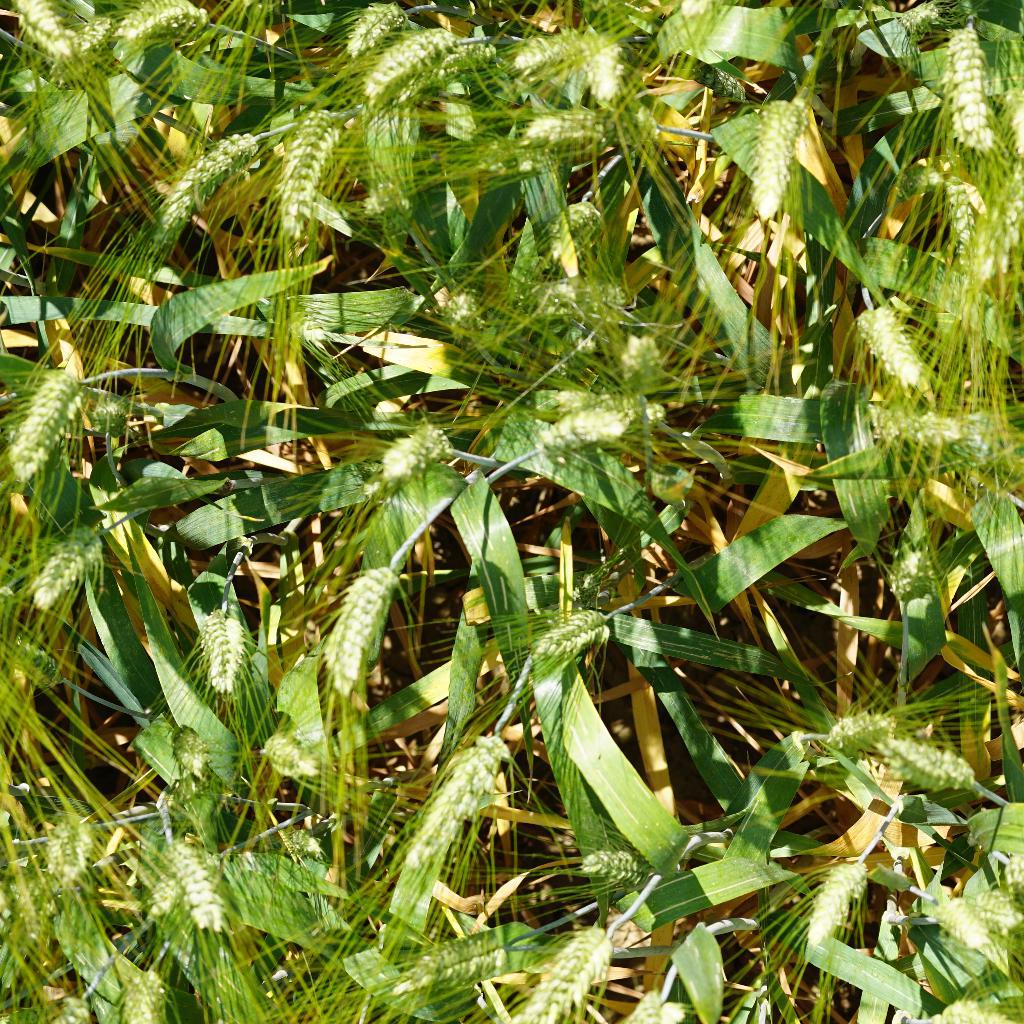0-0: (397, 709, 514, 873), (144, 123, 262, 238), (268, 101, 357, 246), (512, 908, 623, 1024), (313, 555, 403, 697), (370, 920, 523, 998), (343, 17, 473, 108), (3, 359, 88, 484), (746, 79, 814, 231), (933, 15, 1001, 152), (793, 841, 869, 959), (848, 296, 940, 392), (187, 589, 257, 709), (30, 512, 109, 617), (236, 718, 342, 796), (527, 396, 635, 470), (879, 728, 983, 802), (515, 598, 619, 671), (157, 833, 235, 927), (156, 707, 223, 802), (369, 418, 462, 486), (108, 0, 215, 59), (874, 523, 938, 619), (978, 157, 1024, 281), (926, 878, 994, 961), (574, 29, 641, 103), (8, 0, 85, 64), (823, 688, 893, 758), (972, 829, 1024, 923), (34, 807, 97, 884), (503, 18, 583, 78), (109, 961, 185, 1024), (949, 874, 1024, 937), (519, 111, 620, 156), (556, 843, 654, 888), (264, 814, 332, 878), (615, 331, 675, 403), (337, 0, 407, 59), (899, 406, 970, 460), (78, 387, 138, 449), (533, 269, 591, 333), (422, 90, 482, 149), (434, 287, 493, 344), (358, 174, 415, 231), (996, 73, 1024, 167), (135, 870, 185, 922), (661, 0, 757, 25), (889, 0, 934, 47)
